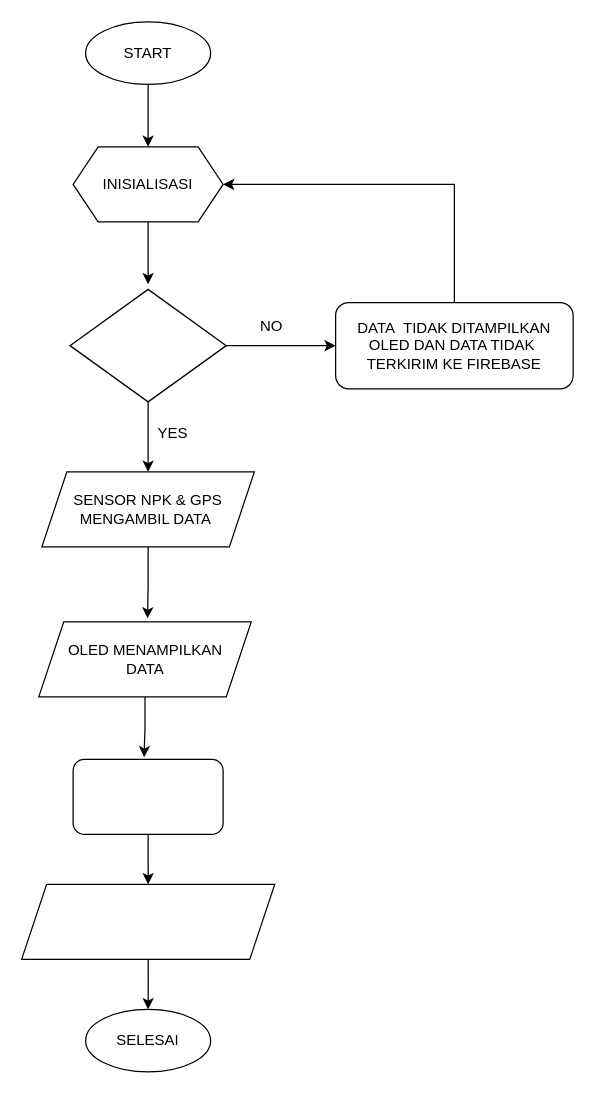
This 596x1094 diagram has some shape labels left out. Each missing label, with the centre of its shape:
"DATA DI KIRIM KE FIREBASE" goes at [147,796].
"FIREBASE MENERIMA DAN MENAMPILKAN DATA" goes at [147,921].
"KONEKSI INTERNET?" goes at [147,345].
